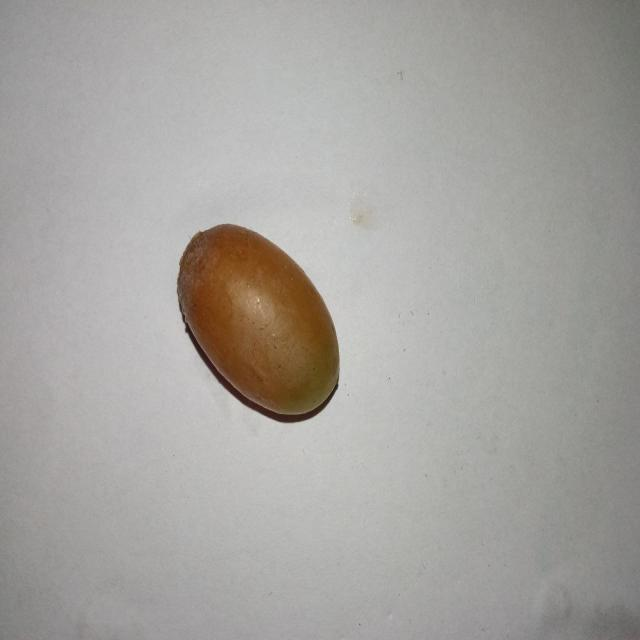rotten_grape: (176, 220, 340, 420)
